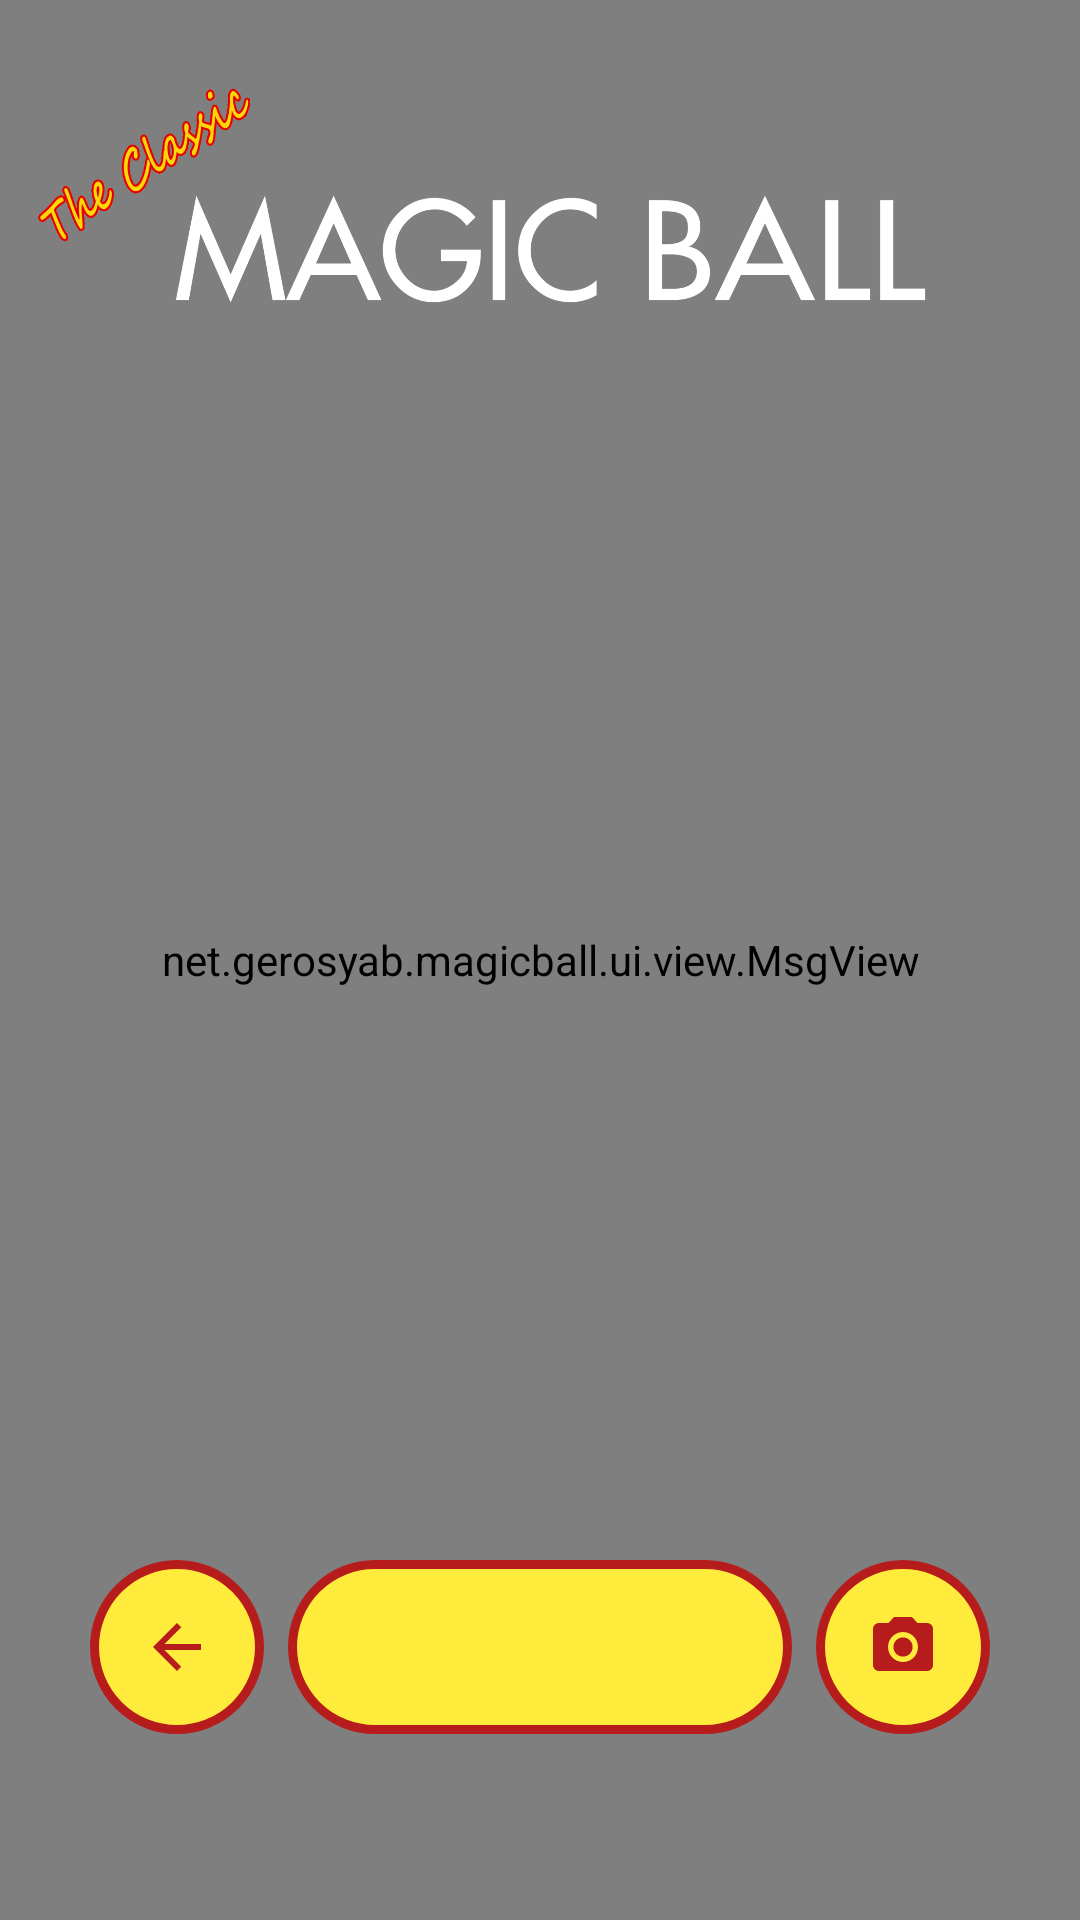

Icon bounding boxes for this 1080x1920 phone screenshot, format (x1,y1,x2,y2):
Back: (90,1560,264,1734)
Capture: (816,1560,990,1734)
